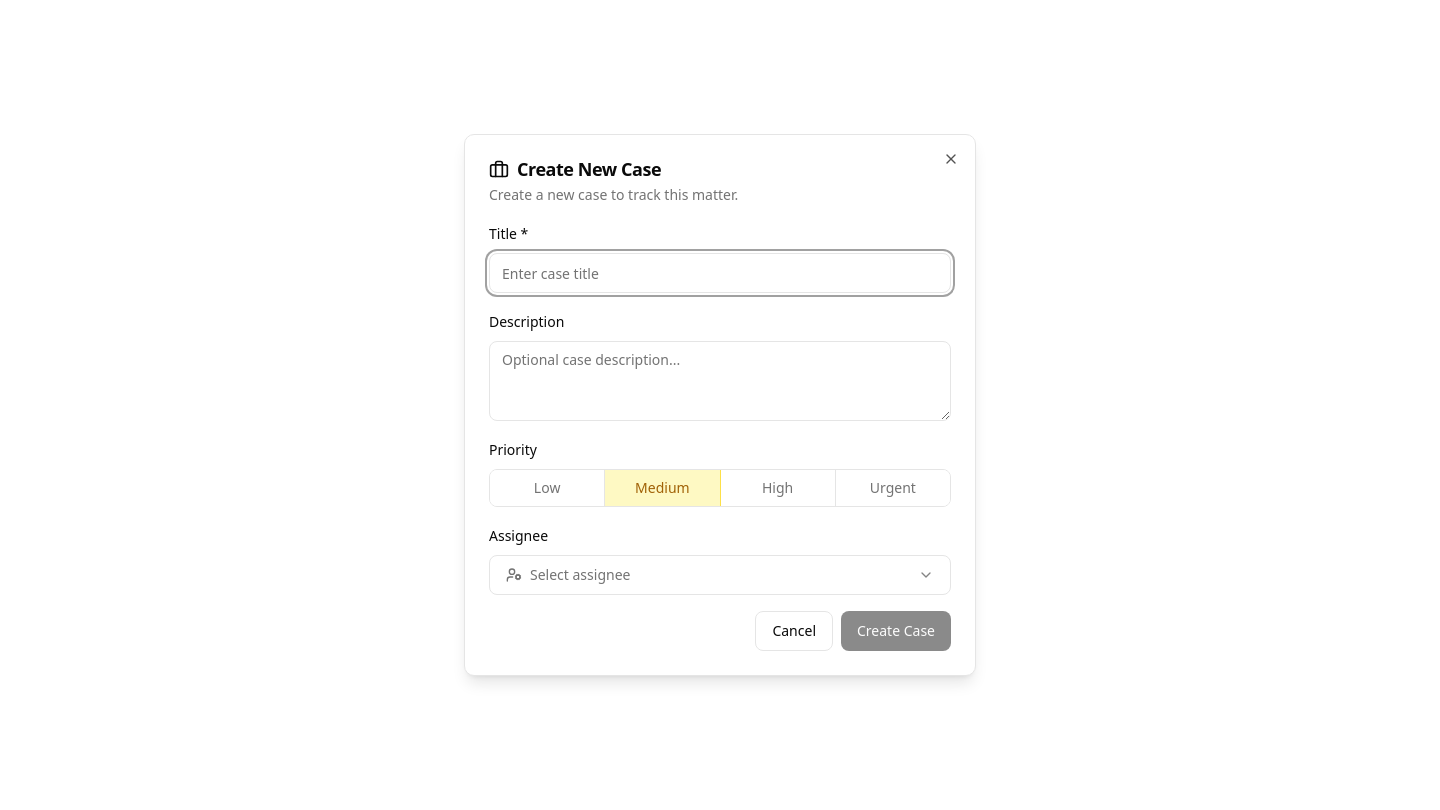
Scenario: CreateCaseDialog › enables submit button when title is provided
Type "New Case" into the field labelled "Title *" at (720, 273), box [489,253,951,293]
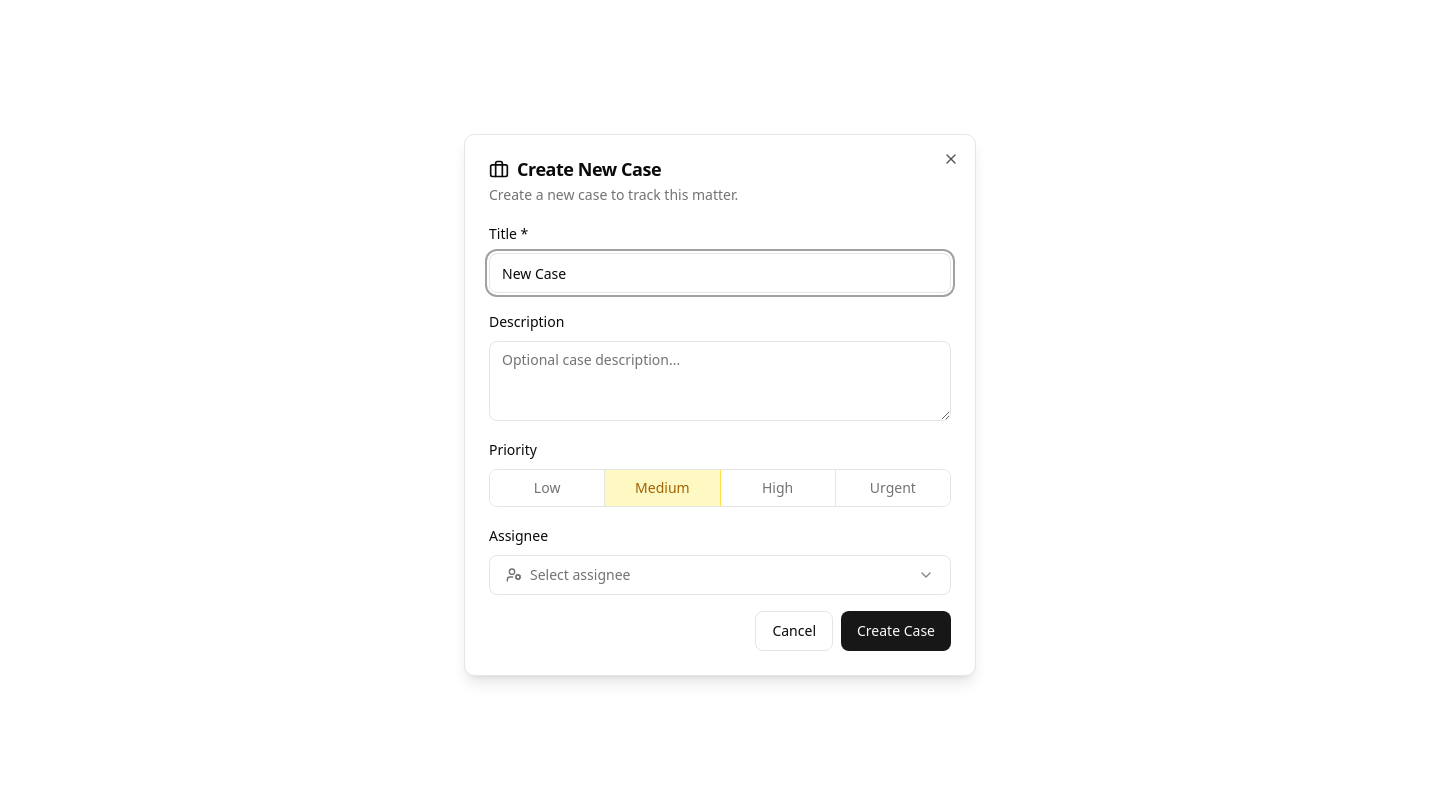
Expected: the button "Create Case" is enabled, [841,611,951,651]
